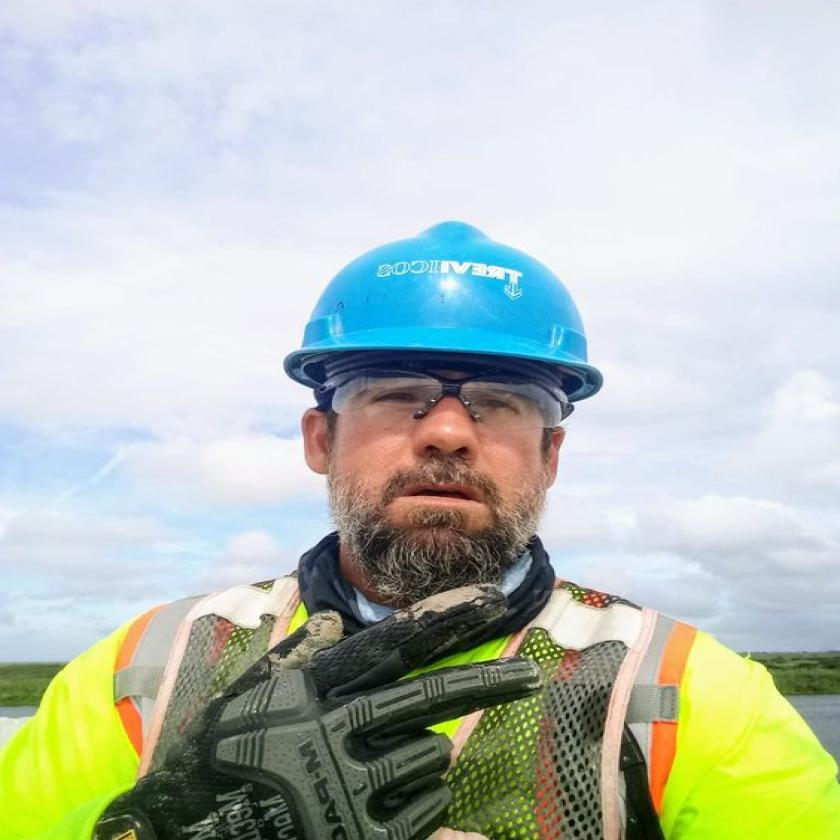Con_casco: (278, 198, 635, 611)
